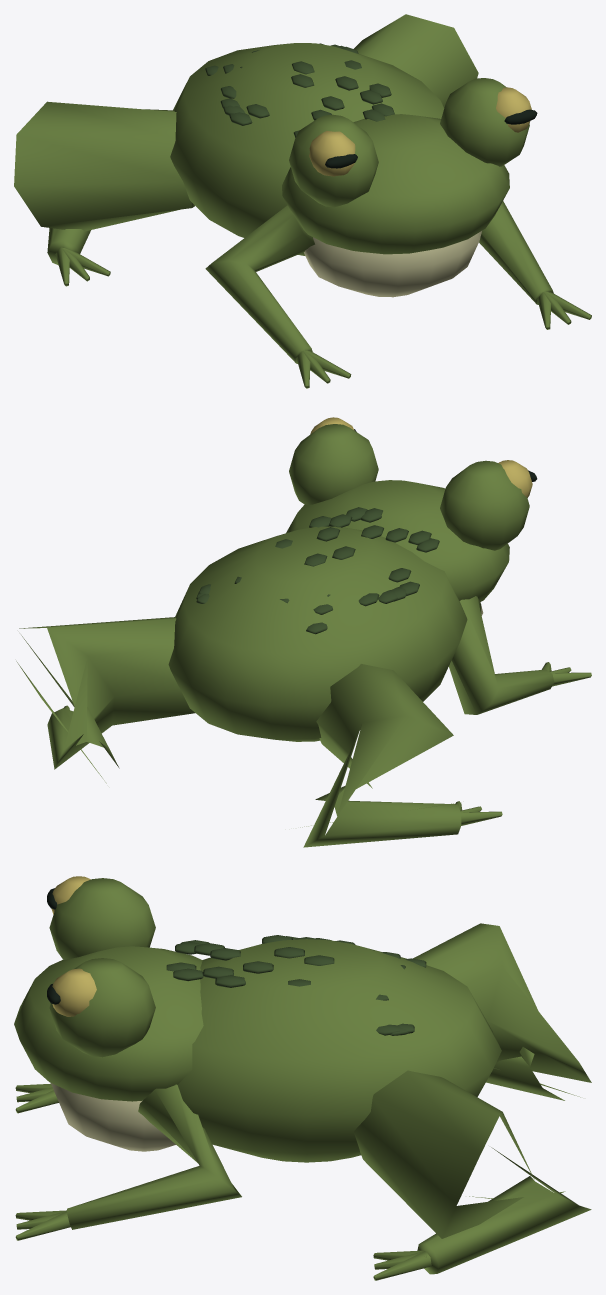
The model's file is frog.glb.
3 views of the same model, one above another, from view 1: azimuth 30°, elevation 25°; view 2: azimuth 150°, elevation 25°; view 3: azimuth 270°, elevation 25° (orthographic). The views are drawn at different scales.
Visible parts, largest first — view 1: frog; view 2: frog; view 3: frog.
Boxes of the visible parts, left/top/right/bottom form: frog: left=14, top=14, right=591, bottom=388; frog: left=16, top=417, right=591, bottom=847; frog: left=14, top=876, right=591, bottom=1280.
Size of the model in its own units: 0.1969 by 0.0916 by 0.1955.
